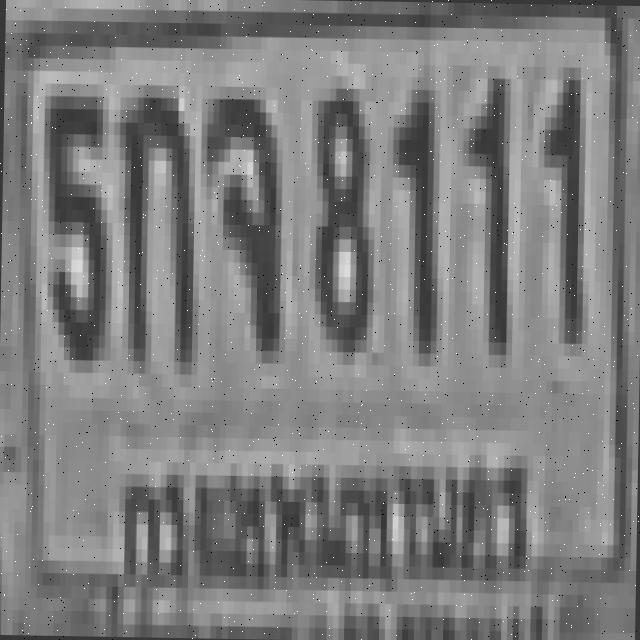1: (535, 60, 580, 337), (460, 65, 504, 342), (387, 77, 432, 340)
10GorGai: (114, 78, 194, 355)
17ChorChan: (198, 86, 278, 350)
5: (40, 76, 109, 354)
8: (308, 76, 371, 340)
Bangkok: (102, 424, 546, 602)
